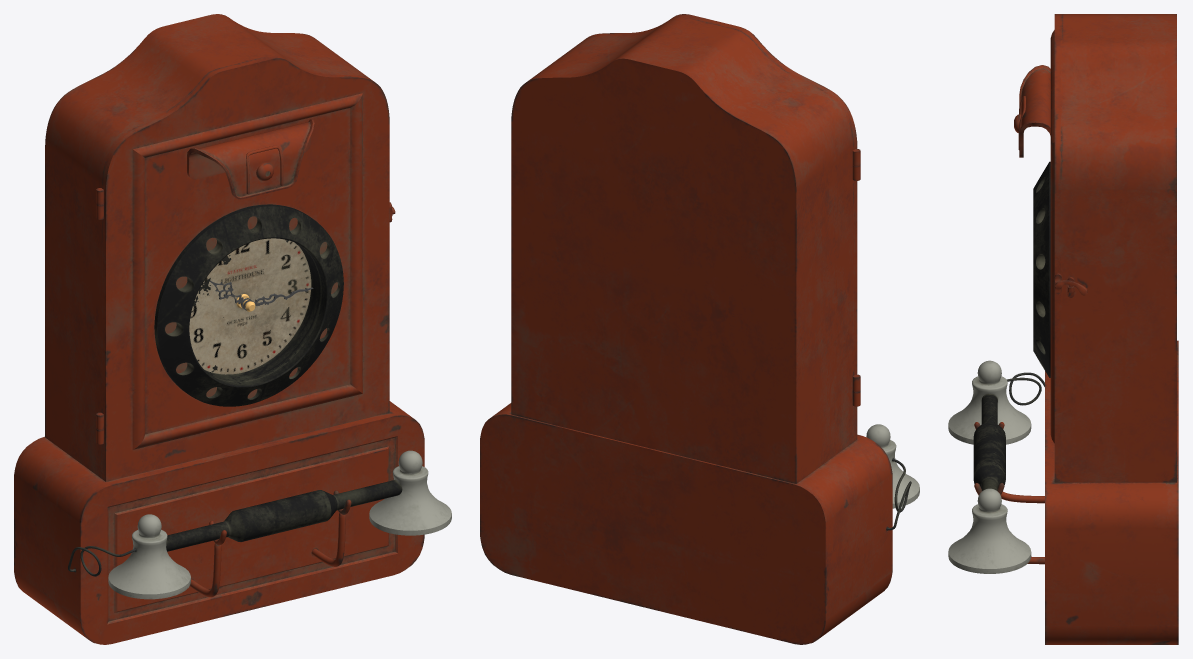
The model's file is vintage_telephone_wall_clock_4k 1.fbx.
3 views of the same model, side by side, from view 1: azimuth 30°, elevation 25°; view 2: azimuth 150°, elevation 25°; view 3: azimuth 270°, elevation 25° (orthographic).
Parts seen in each view (by area): view 1: vintage_telephone_wall_clock; view 2: vintage_telephone_wall_clock; view 3: vintage_telephone_wall_clock.
Part boxes in pixels (x1,y1,x2,y2): vintage_telephone_wall_clock: (14, 14, 451, 644); vintage_telephone_wall_clock: (480, 14, 919, 644); vintage_telephone_wall_clock: (948, 14, 1178, 644).
Bounding box in the file's own units: 34.28 × 50.12 × 19.26.
